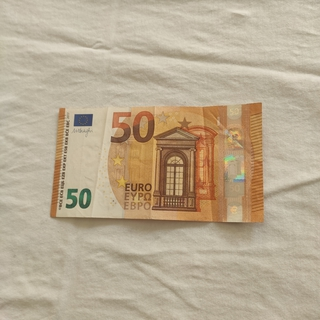50EUROFront: (49, 101, 264, 223)
